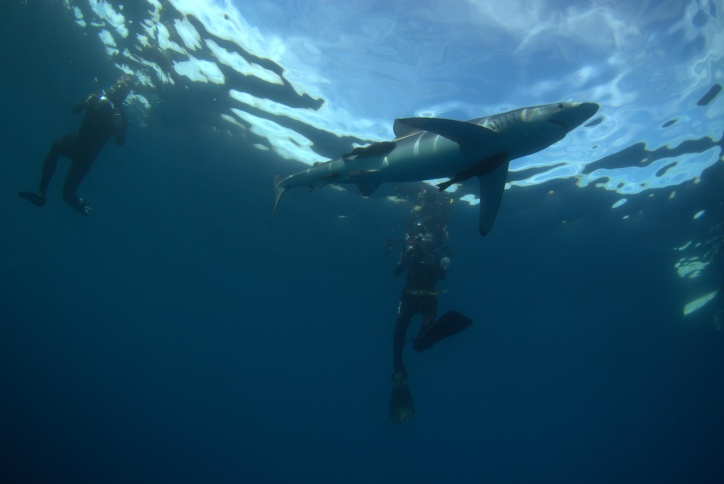Azul: (274, 190, 720, 362)
